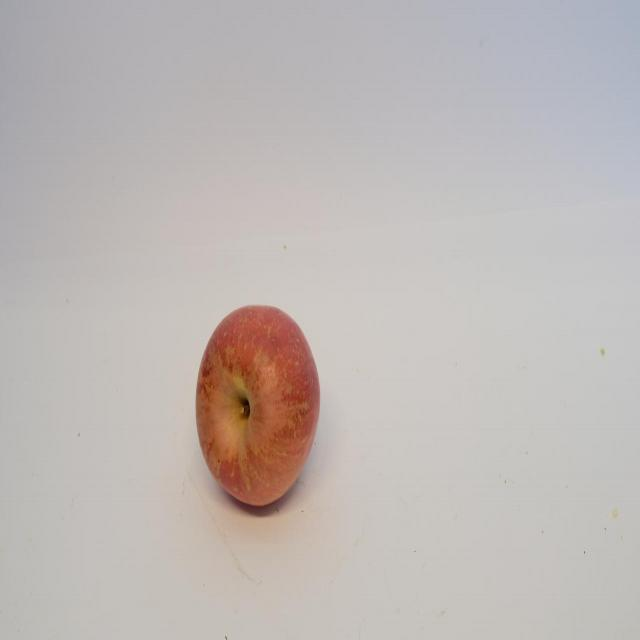apple: (194, 298, 324, 520)
